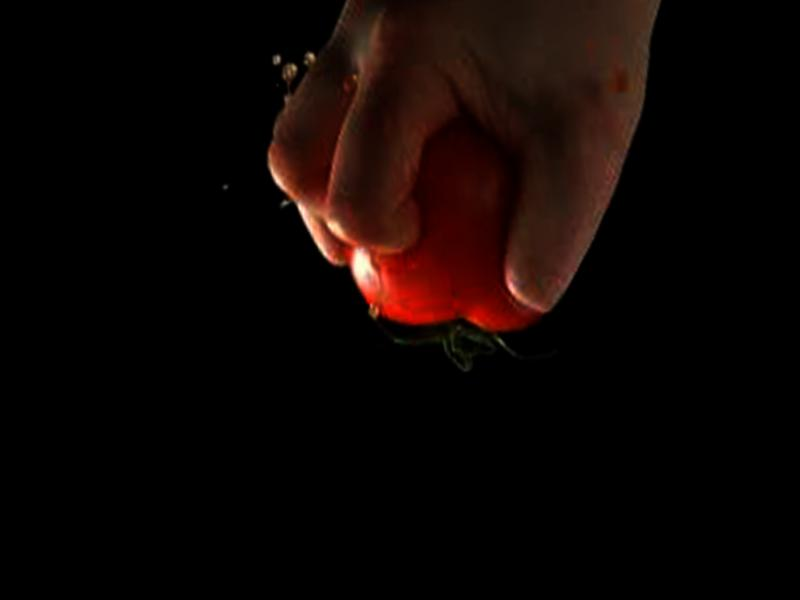Tomato: (331, 111, 546, 354)
